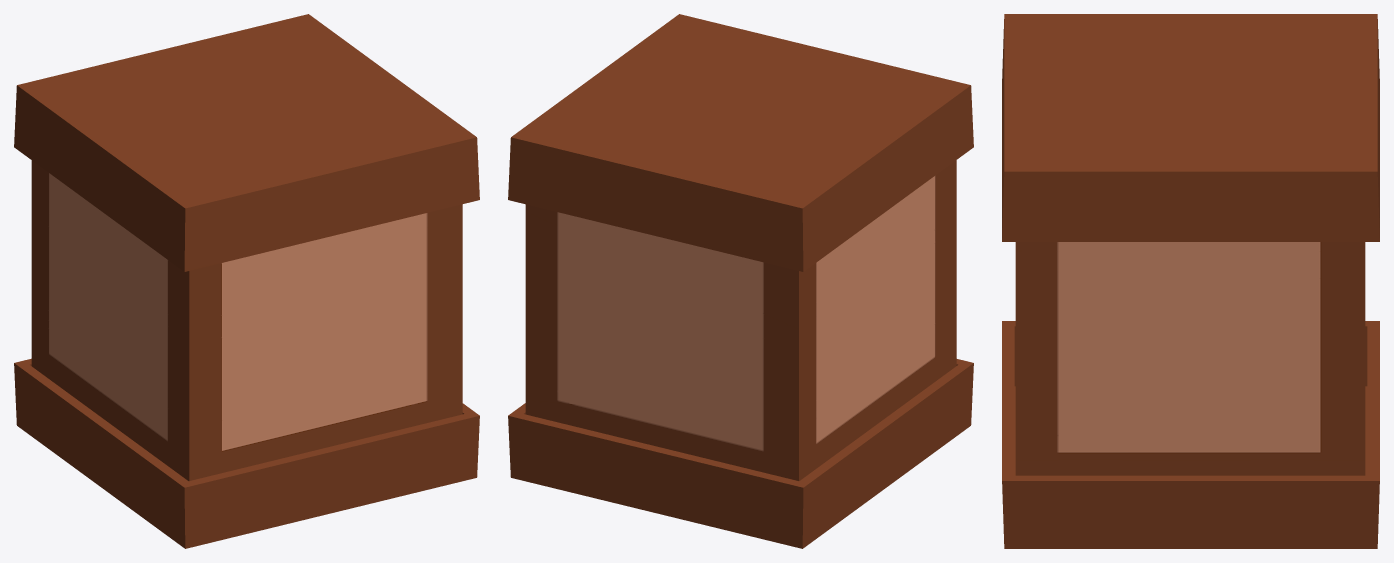
Rendered from Broken Crate 2.fbx.
3 views of the same model, side by side, from view 1: azimuth 30°, elevation 25°; view 2: azimuth 150°, elevation 25°; view 3: azimuth 270°, elevation 25° (orthographic). The views are drawn at different scales.
Parts seen in each view (by area): view 1: Object001, Box003, Object002; view 2: Object001, Box003, Object002; view 3: Object001, Box003, Object002.
Boxes of the visible parts, x1,y1,x2,y2 form: Object001: (14,14,479,329); Box003: (31,212,462,423); Object002: (14,308,479,548); Object001: (508,14,973,328); Box003: (525,212,956,423); Object002: (508,308,973,548); Object001: (1002,14,1379,251); Box003: (1015,251,1365,459); Object002: (1002,321,1379,548).
Size of the model in its own units: 13.38 by 14.74 by 13.38.
Materials: 3 (3 with a texture image).
